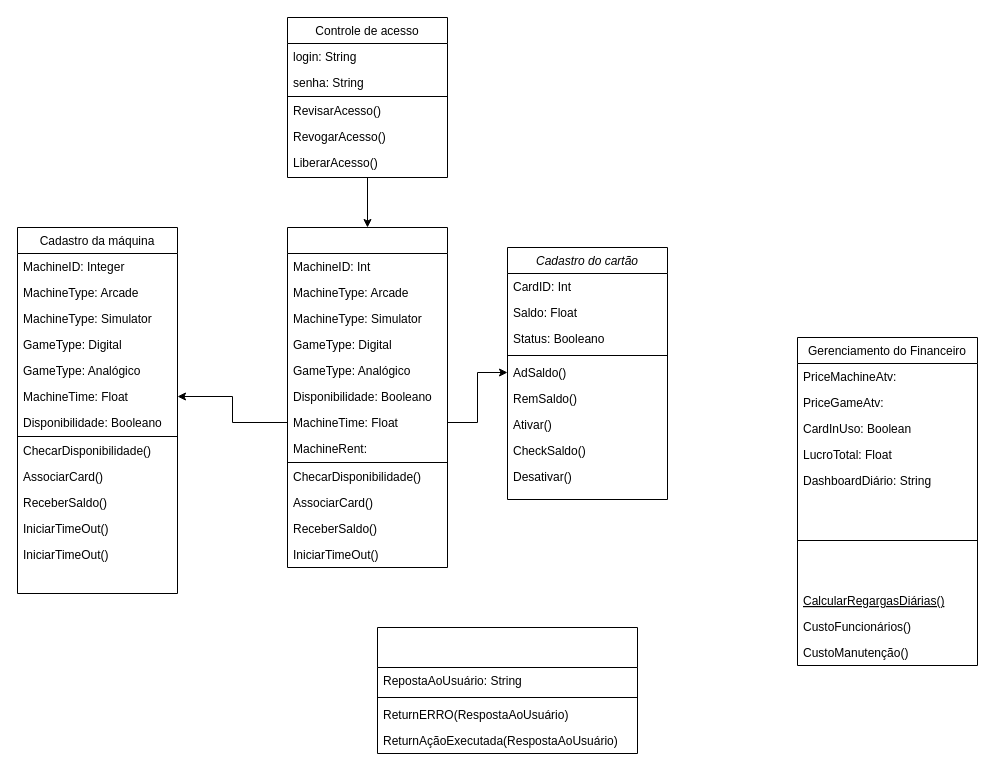
The diagram is 995 pixels wide and 774 high, and some of its shapes have lost their labels. The box of each missing label's shape, as (x1, y1, x2, y2) in pixels:
Configuração de máquina: (286, 226, 448, 568)
Suporte e Retorno: (376, 626, 638, 754)
